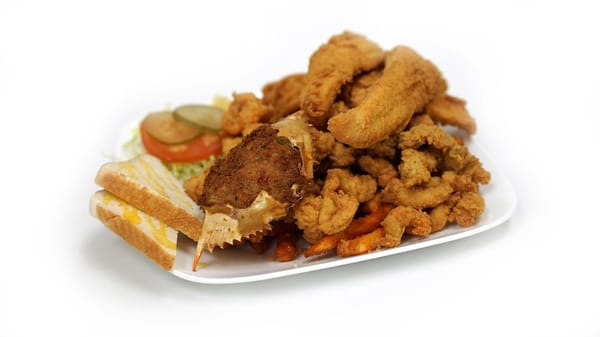curry: (39, 3, 598, 327)
